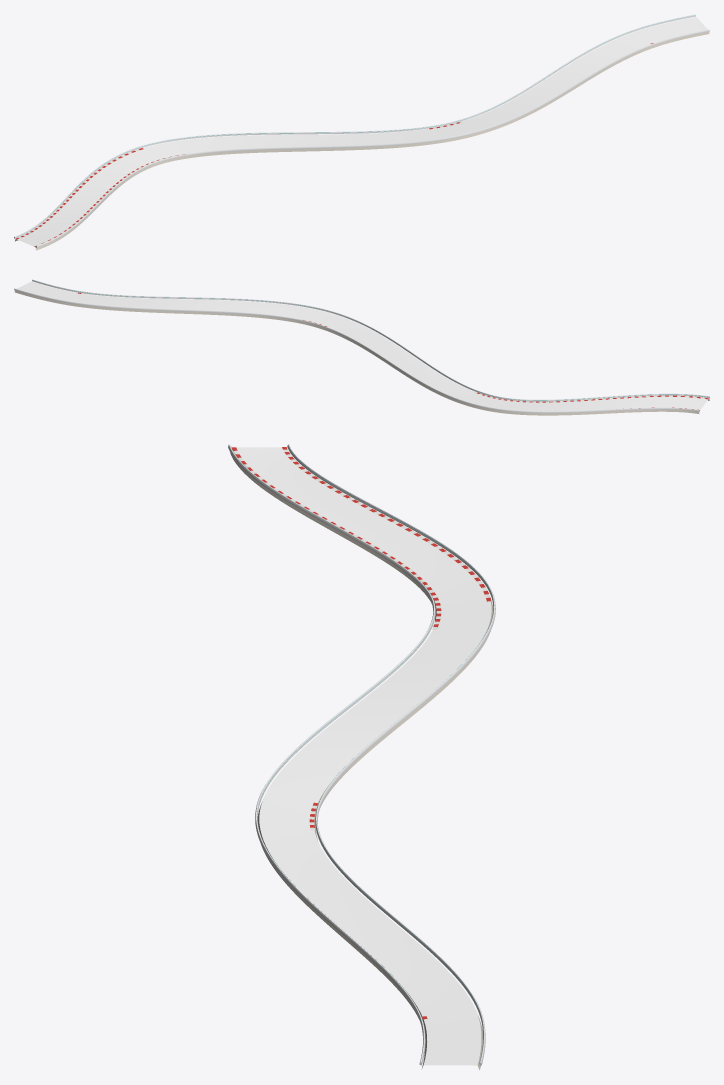
The model's file is SM_FutureCity_Track_02.fbx.
3 views of the same model, one above another, from view 1: azimuth 30°, elevation 25°; view 2: azimuth 150°, elevation 25°; view 3: azimuth 270°, elevation 25° (orthographic). The views are drawn at different scales.
Parts seen in each view (by area): view 1: SM_FutureCity_Track_02; view 2: SM_FutureCity_Track_02; view 3: SM_FutureCity_Track_02.
Part boxes in pixels (left/top/right/bottom): SM_FutureCity_Track_02: left=14, top=14, right=709, bottom=250; SM_FutureCity_Track_02: left=14, top=279, right=709, bottom=415; SM_FutureCity_Track_02: left=228, top=444, right=495, bottom=1070.
Bounding box in the file's own units: 40561 × 362 × 7384.
